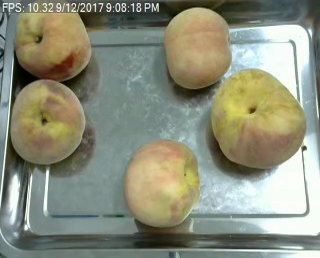Peach: (212, 67, 306, 168), (124, 138, 200, 228), (8, 78, 83, 164), (14, 0, 91, 81), (164, 6, 233, 89)
